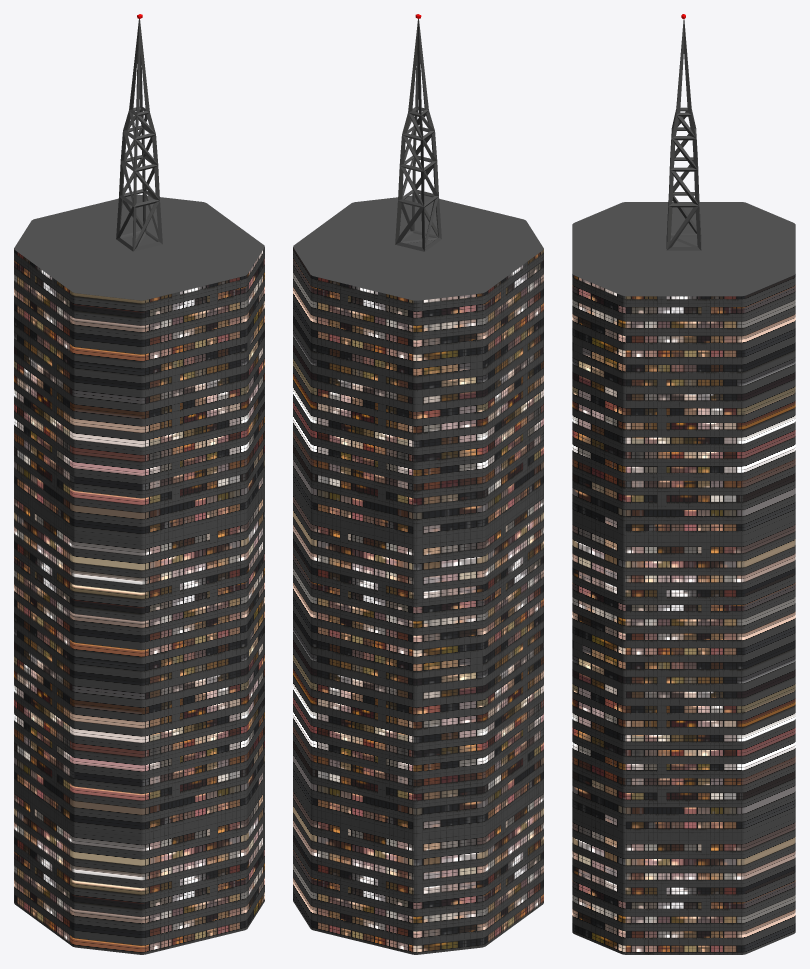
File: Mesh_NeonOffice.fbx
The picture shows the model from 3 angles, left to right: view 1: azimuth 30°, elevation 25°; view 2: azimuth 150°, elevation 25°; view 3: azimuth 270°, elevation 25°; orthographic projection.
Parts seen in each view (by area): view 1: Mesh_NeonOffice; view 2: Mesh_NeonOffice; view 3: Mesh_NeonOffice.
Boxes of the visible parts, x1,y1,x2,y2 form: Mesh_NeonOffice: [14, 14, 264, 954]; Mesh_NeonOffice: [293, 14, 543, 954]; Mesh_NeonOffice: [572, 14, 795, 954].
Bounding box in the file's own units: 25.67 × 114 × 25.67.
